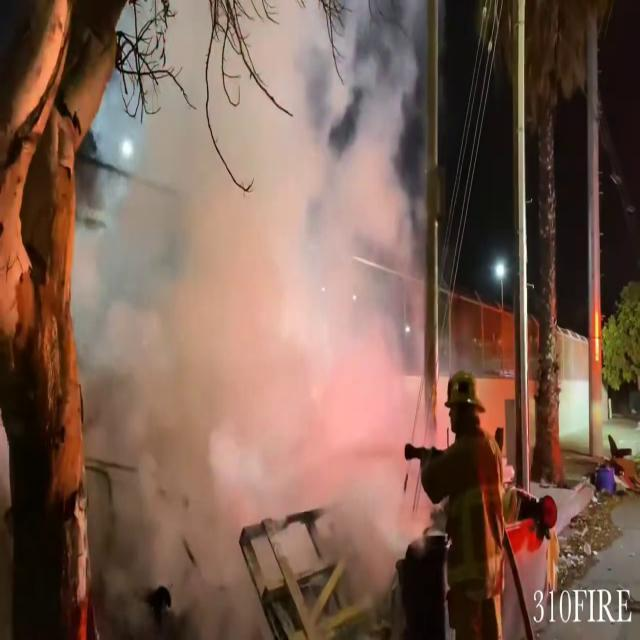Smoke: (73, 1, 440, 630)
